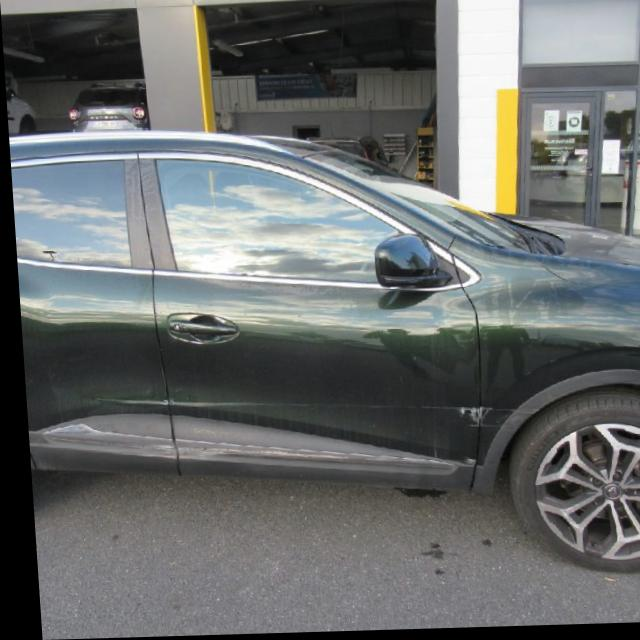porte-avant: (131, 146, 484, 504)
